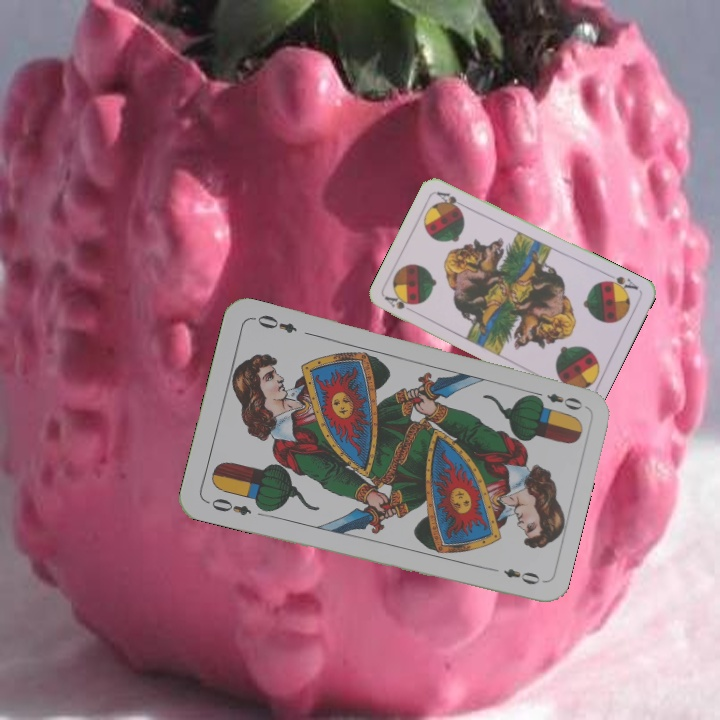EO: (528, 387, 586, 413), (202, 494, 254, 519)
SA: (601, 270, 641, 295), (381, 292, 419, 317)
